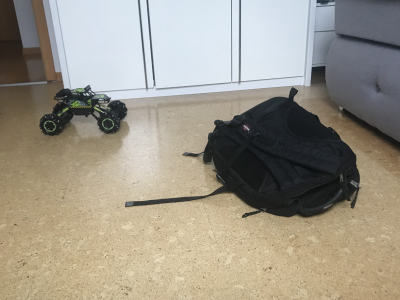remote control car: (38, 82, 128, 136)
